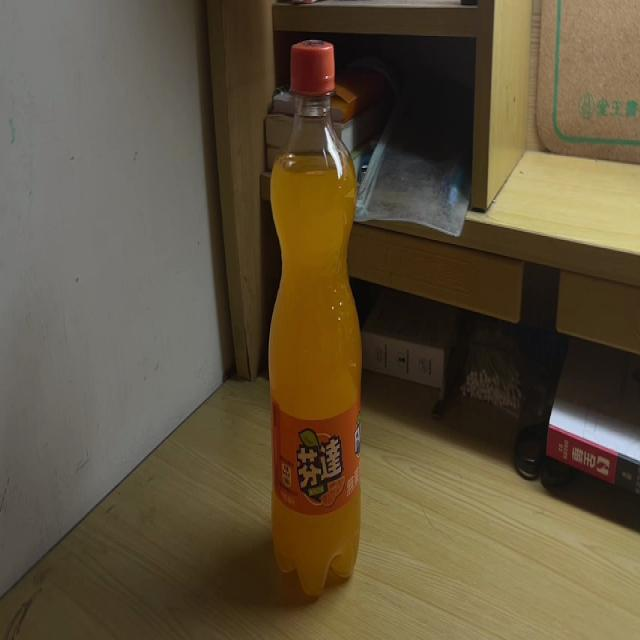Fanta: (266, 37, 361, 591)
